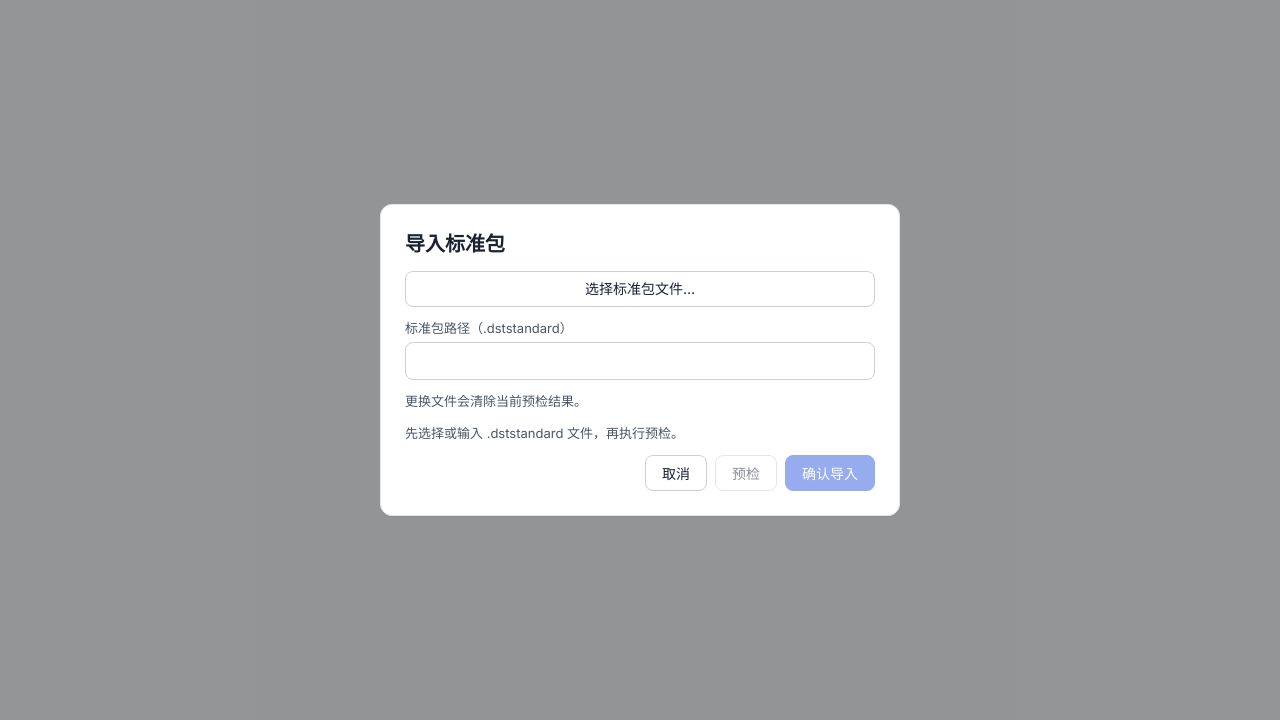
Test: StandardImportDialog › 受阻预检展示诊断、禁用确认且不关闭弹窗
Step 1. Click the button with test id "import-choose-file" → (640, 289), box top-left (405, 271), bottom-right (875, 307)
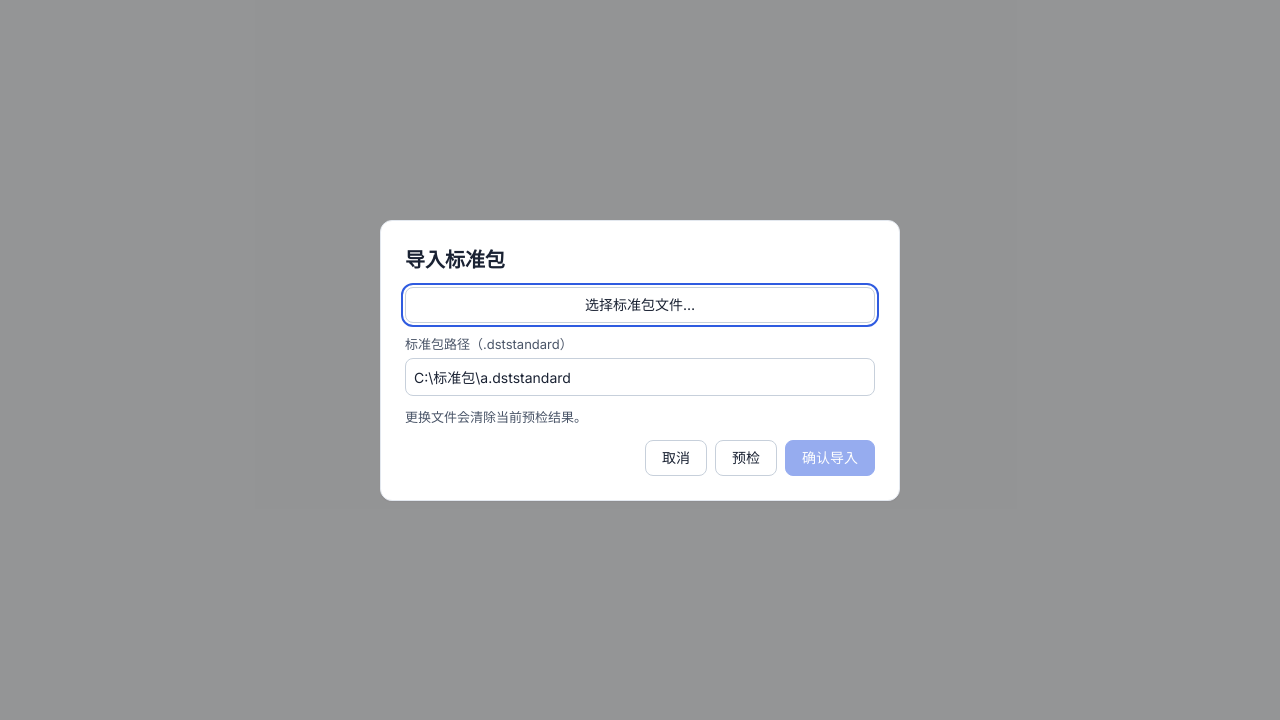
Step 2. Click the button with test id "import-preview-button" → (746, 458), box top-left (715, 440), bottom-right (777, 476)
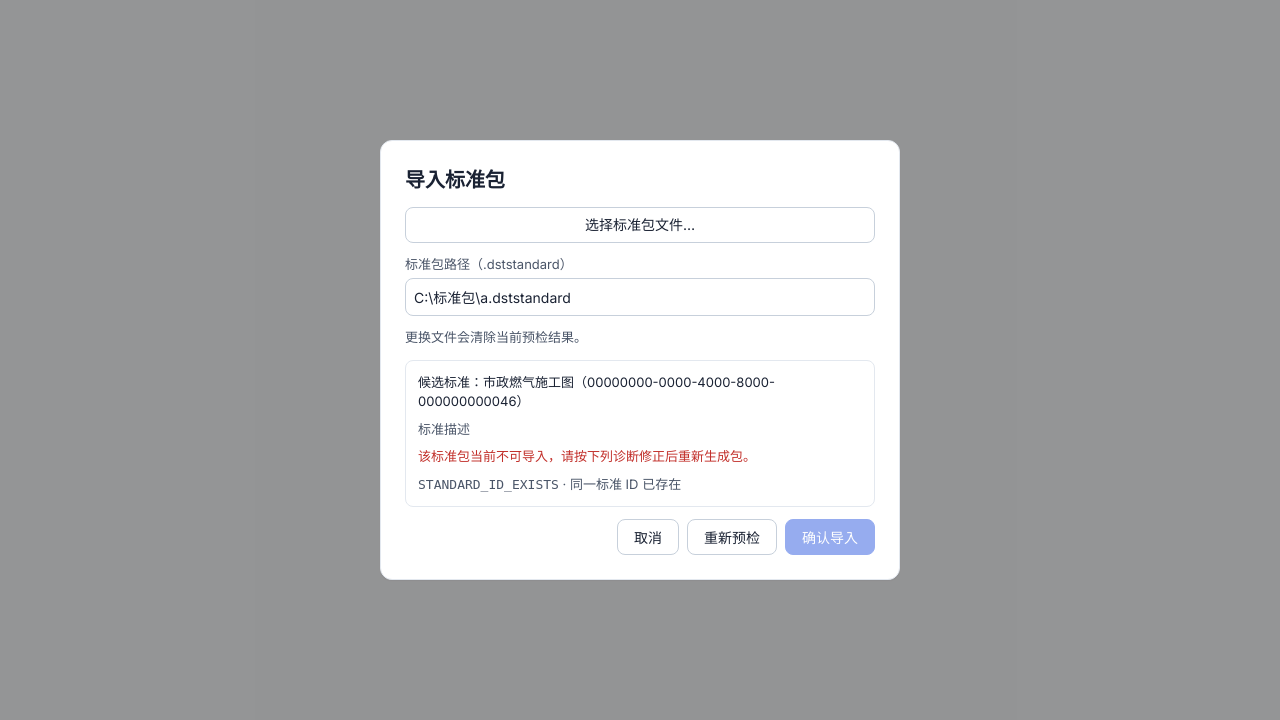
Expected: the button with test id "import-confirm-button" is disabled, top-left (785, 519), bottom-right (875, 555)
Now the list with test id "import-diagnostics" shows "STANDARD_ID_EXISTS", box top-left (418, 477), bottom-right (559, 492)
